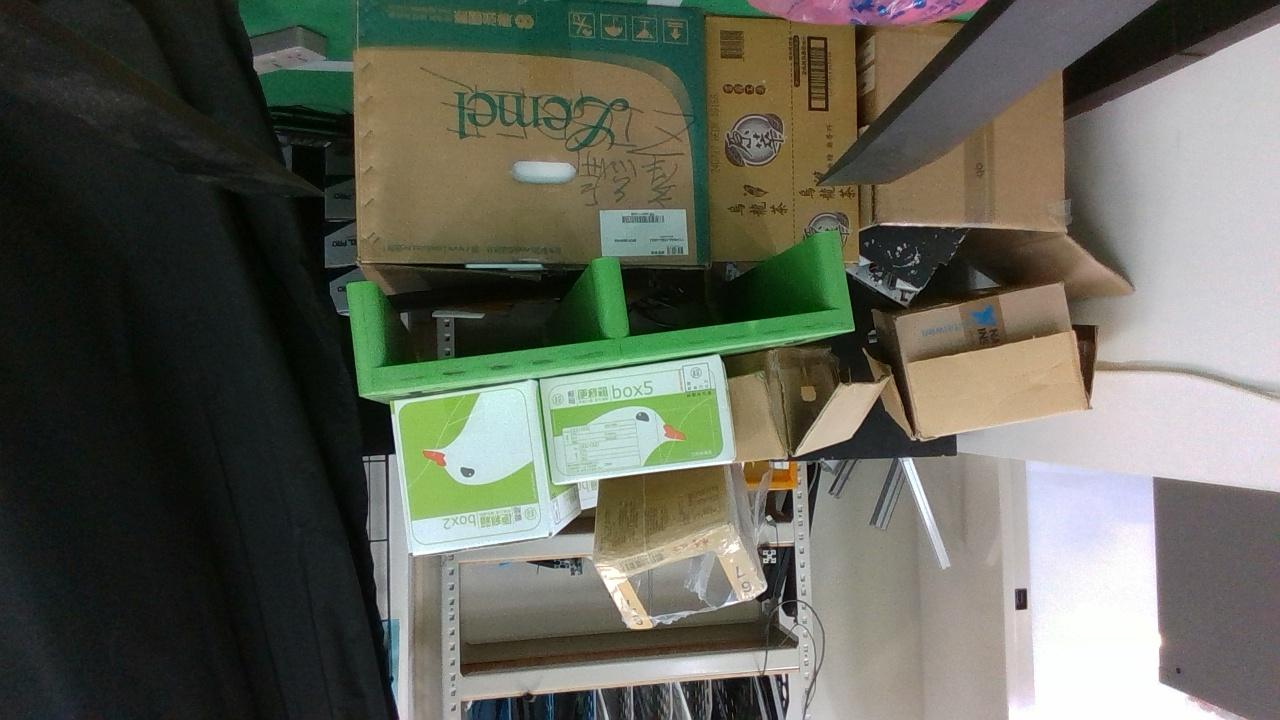Pallet: (348, 231, 858, 398)
